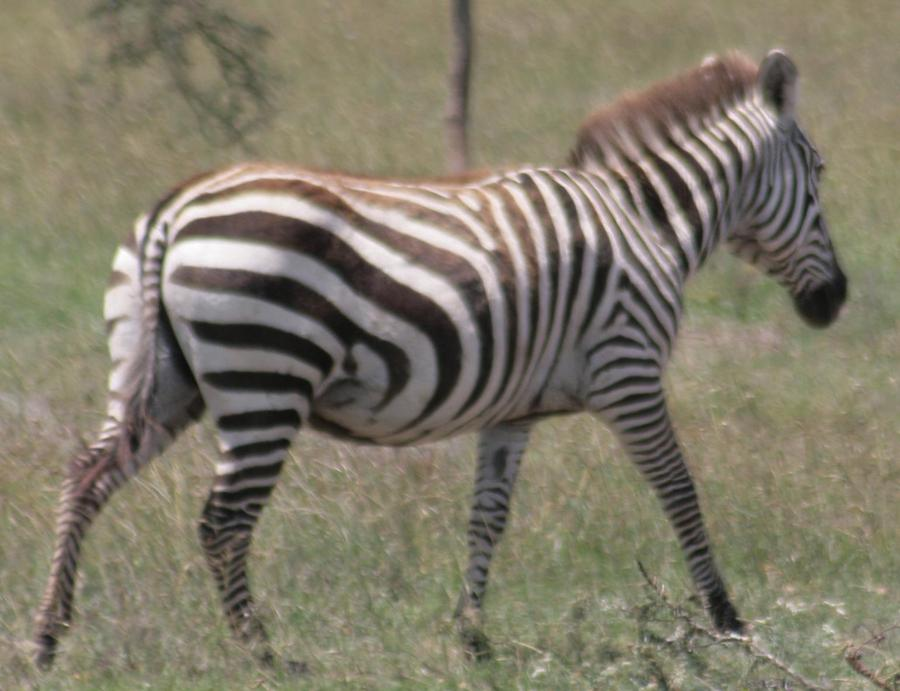zebra_plains: (186, 124, 703, 464)
